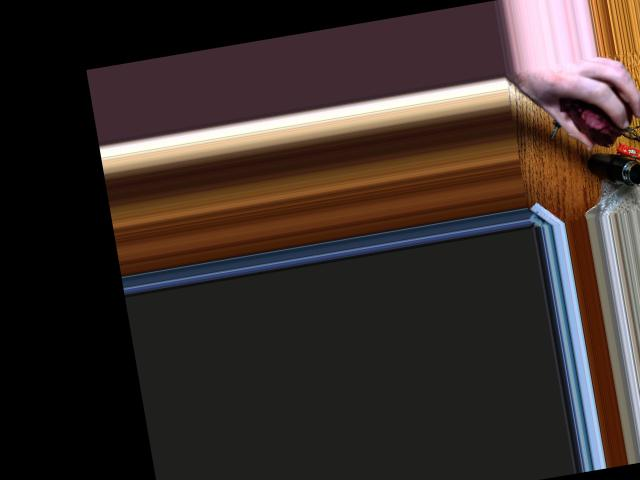onion: (553, 84, 635, 149)
